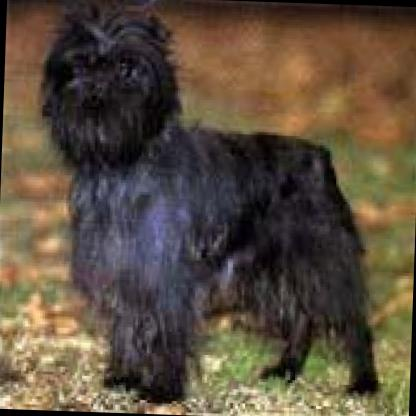affenpinscher: (22, 0, 393, 413)
